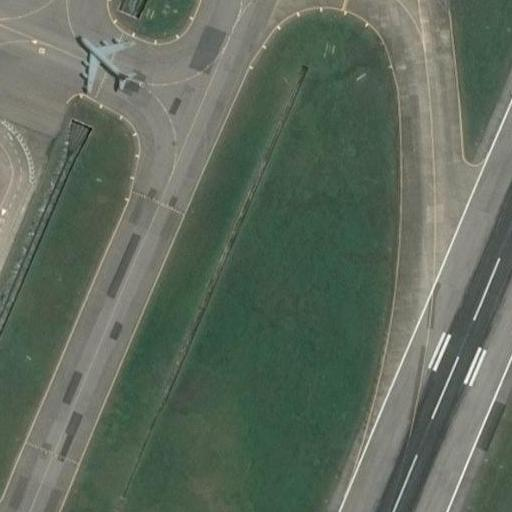Aircraft: (72, 25, 139, 97)
